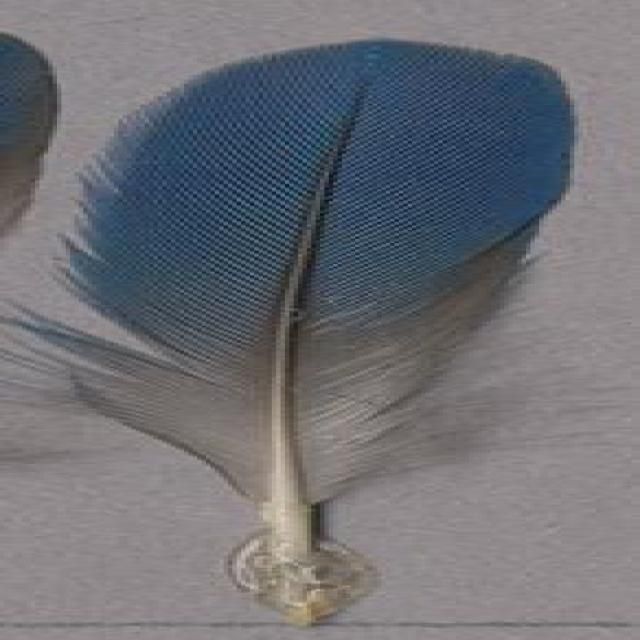feather: (0, 36, 585, 626)
